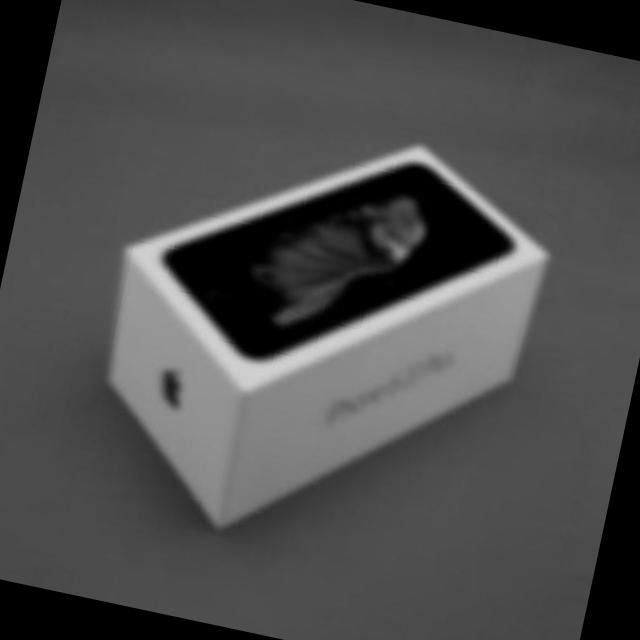box: (77, 85, 586, 586)
